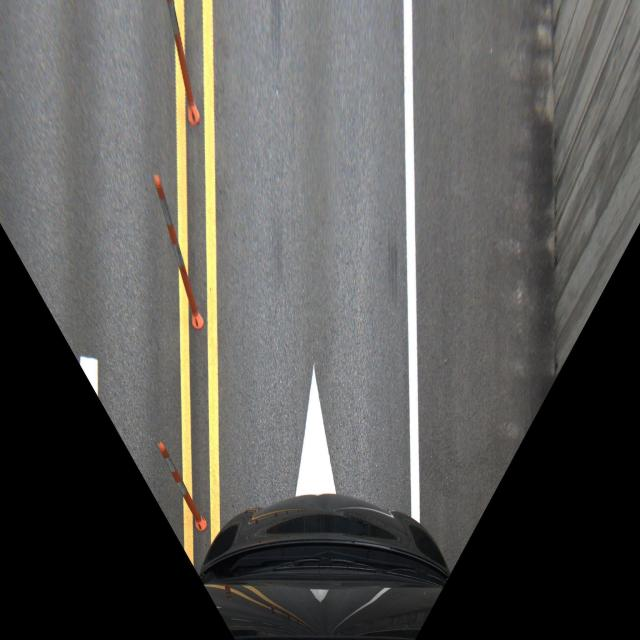forward: (225, 274, 427, 514)
